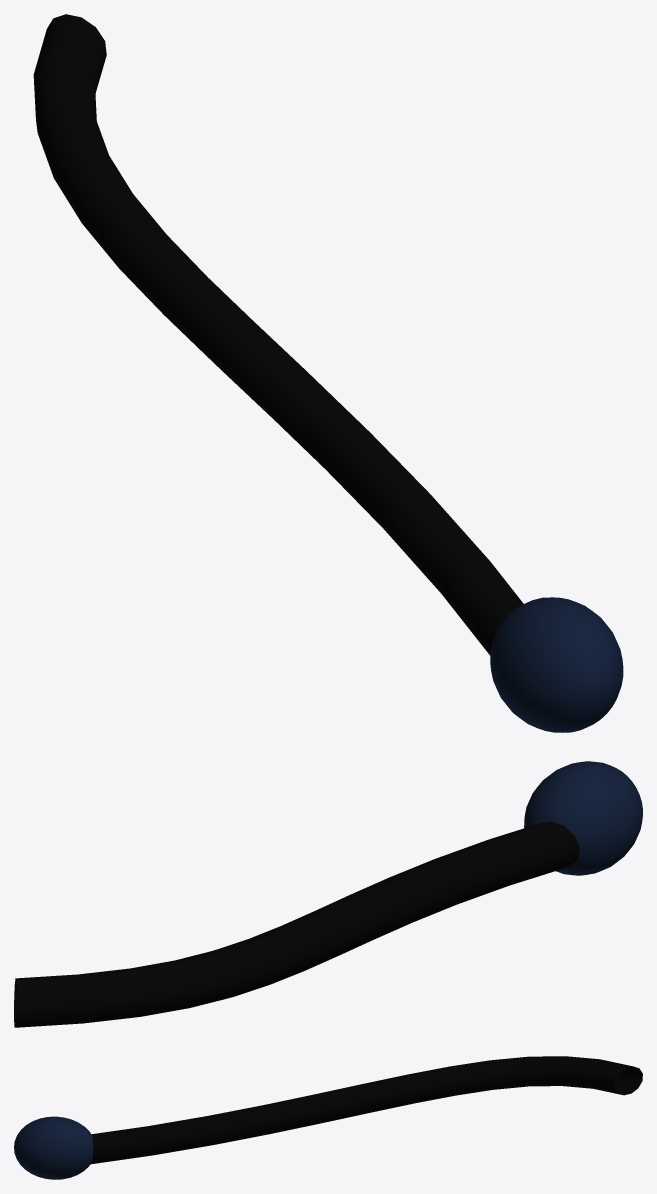
File: Micro_FBI.fbx
3 renders of one model, top to bottom at view 1: azimuth 30°, elevation 25°; view 2: azimuth 150°, elevation 25°; view 3: azimuth 270°, elevation 25°, orthographic. The views are drawn at different scales.
Visible parts, largest first — view 1: Micro_FBI; view 2: Micro_FBI; view 3: Micro_FBI.
Boxes of the visible parts, x1,y1,x2,y2 form: Micro_FBI: (33,14,623,732); Micro_FBI: (14,761,642,1027); Micro_FBI: (14,1056,642,1179).
Size of the model in its own units: 9.65 by 14.96 by 64.31.
